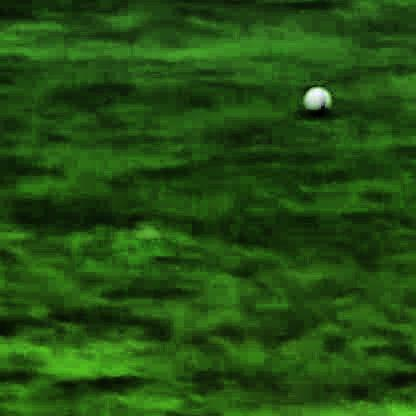golfball: (300, 83, 328, 113)
